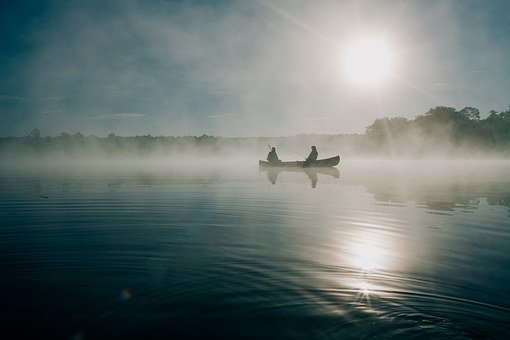lake: (7, 157, 510, 334)
sky: (1, 4, 510, 137)
